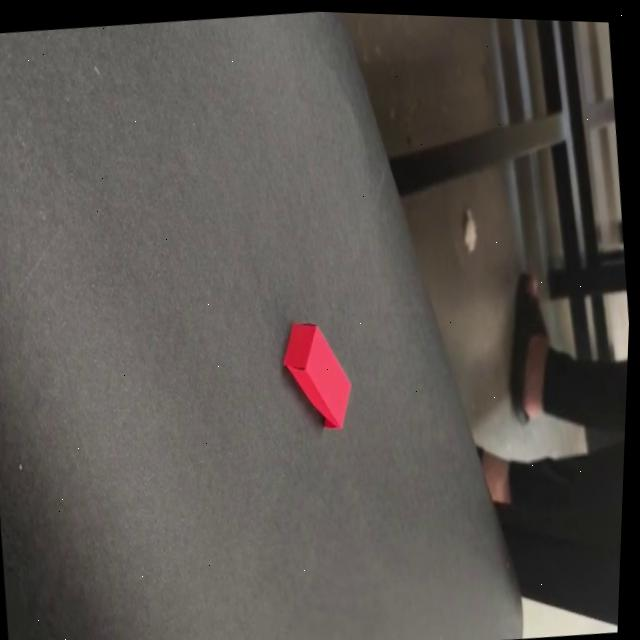red block: (276, 312, 360, 435)
